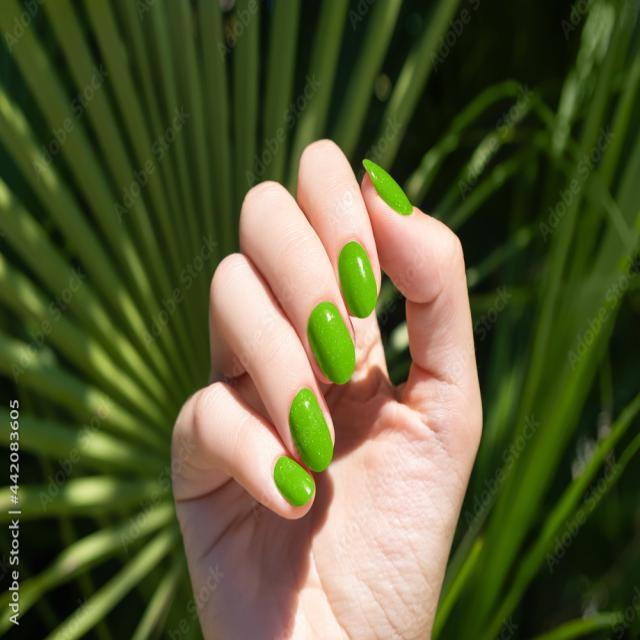Fingernail: (309, 302, 356, 383), (290, 390, 332, 470), (339, 242, 377, 317), (364, 161, 412, 215), (275, 456, 314, 506)
